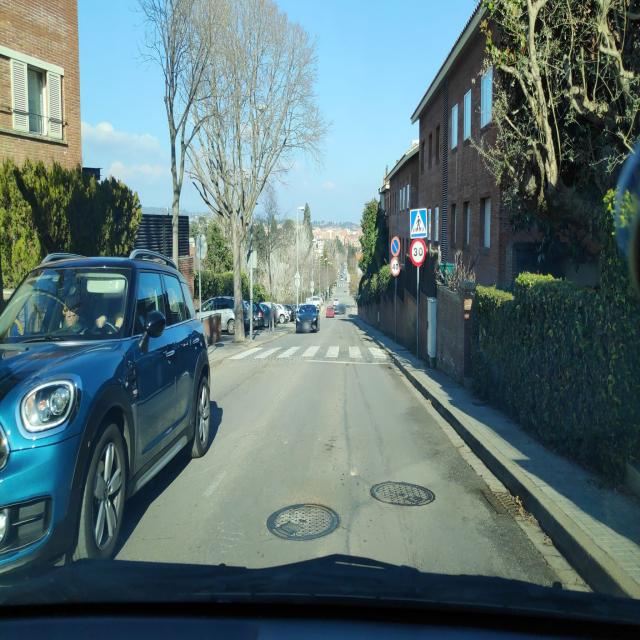forb_stopping: (391, 236, 400, 255)
